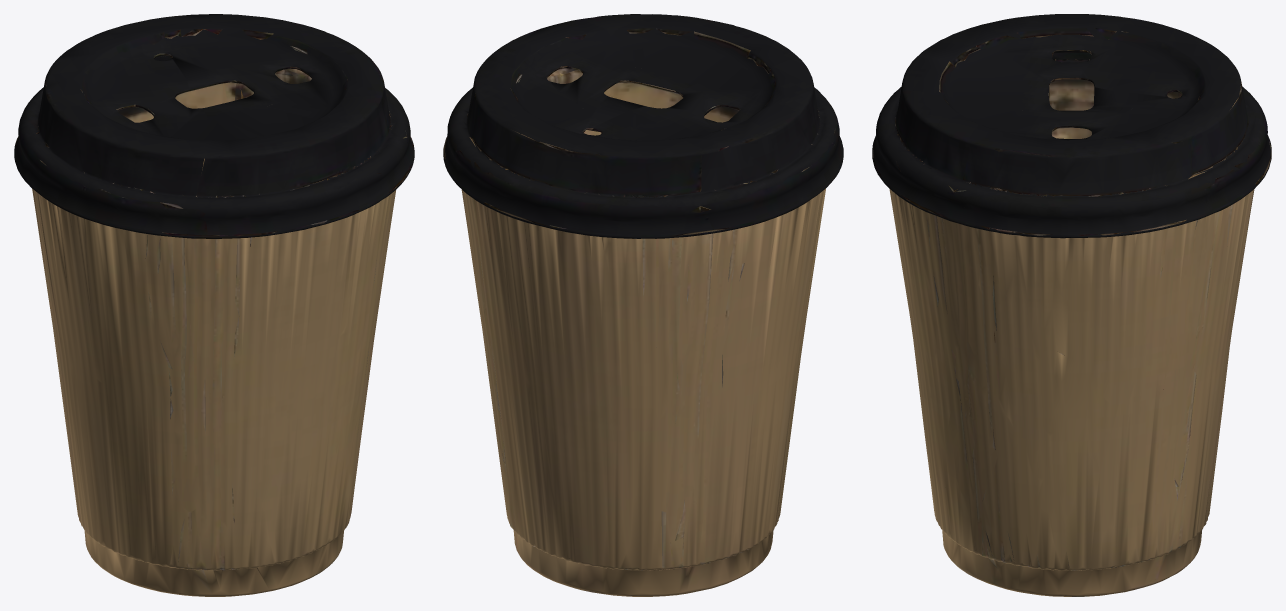
File: smoothie.glb
3 renders of one model, left to right at view 1: azimuth 30°, elevation 25°; view 2: azimuth 150°, elevation 25°; view 3: azimuth 270°, elevation 25°, orthographic.
Visible parts, largest first — view 1: Mesh_0; view 2: Mesh_0; view 3: Mesh_0.
Part boxes in pixels (x1,y1,x2,y2): Mesh_0: [14, 14, 414, 596]; Mesh_0: [443, 14, 843, 596]; Mesh_0: [872, 14, 1271, 596].
Bounding box in the file's own units: 1.5 × 1.91 × 1.5.
Materials: 1 (1 with a texture image).
